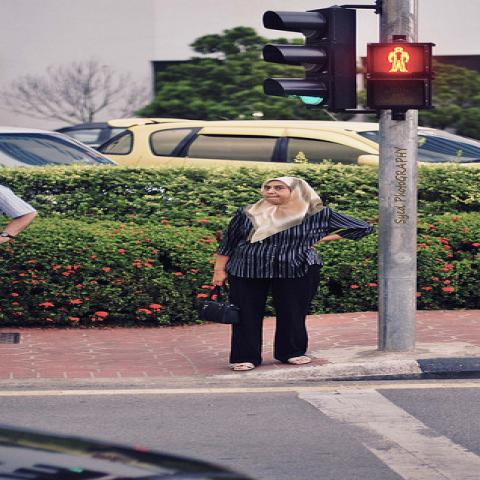car: (95, 120, 479, 166), (0, 125, 124, 167), (54, 117, 208, 150)
